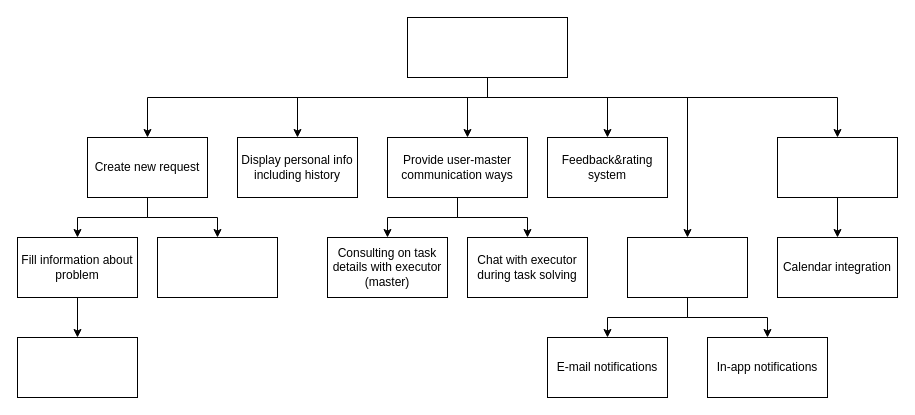
Some shapes in this 915 by 415 pixel diagram are drawn without their labels. The box of each missing label's shape, as (x1, y1, x2, y2) in pixels:
Arrange relevant masters by requested criterias and supply them: (156, 236, 278, 298)
Arrange well-known tasks by predefined filters: (16, 336, 138, 398)
In-app tasks scheduling: (776, 136, 898, 198)
Provide public in-house services: (406, 16, 568, 78)
Sending notifications: (626, 236, 748, 298)
